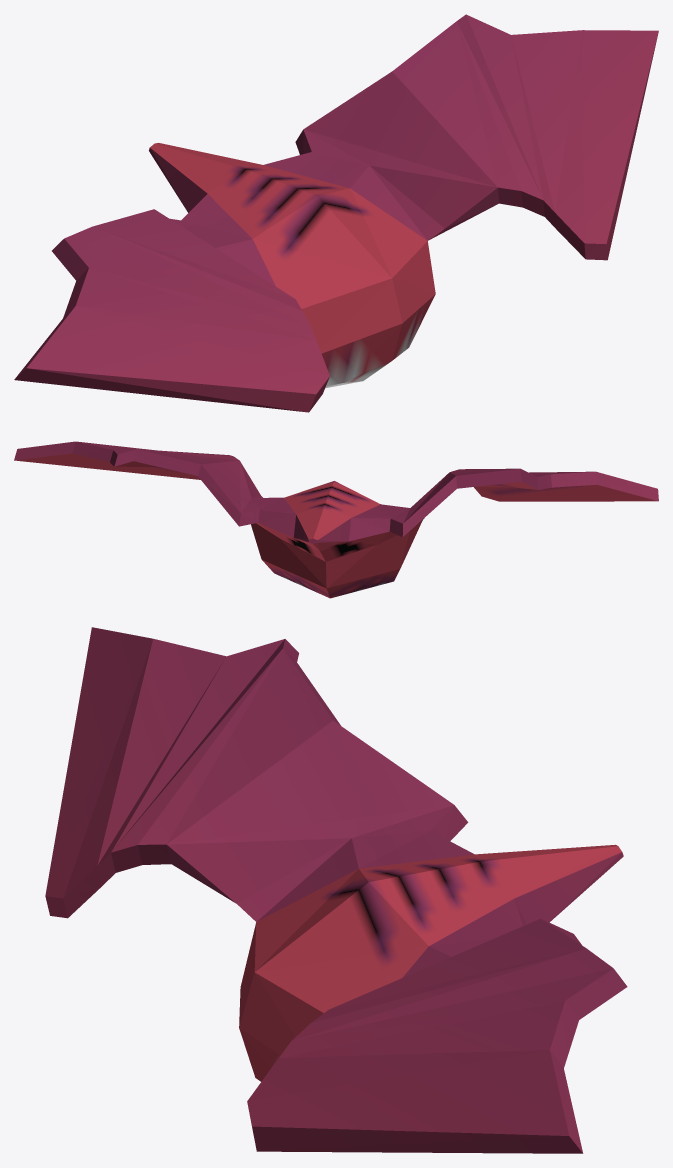
File: bigOlBat_wounded.obj
The picture shows the model from 3 angles, top to bottom: view 1: azimuth 30°, elevation 25°; view 2: azimuth 150°, elevation 25°; view 3: azimuth 270°, elevation 25°; orthographic projection. The views are drawn at different scales.
Visible parts, largest first — view 1: Sphere; view 2: Sphere; view 3: Sphere.
Boxes of the visible parts, x1,y1,x2,y2 form: Sphere: (14,14,658,412); Sphere: (14,441,658,598); Sphere: (45,627,627,1153).
Size of the model in its own units: 9.15 by 2.51 by 4.39.
1 material, 1 textured.
